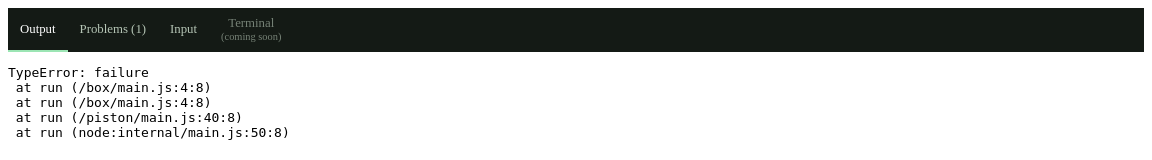
Test: lists only deduplicated learner diagnostics and keeps runtime frames in Output
The width and height of the screenshot is (1152, 160).
Click the tab "Problems (1)". click: (113, 30)
box: [68,8,158,52]
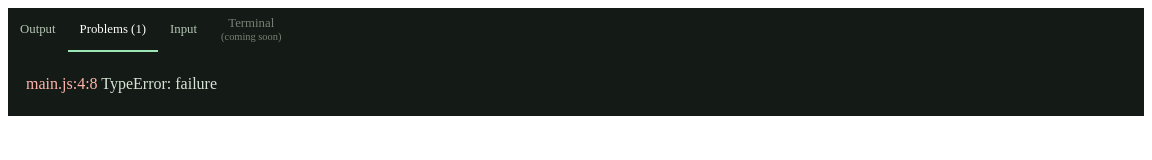
Expected: the number of buttons "main.js:4:8 TypeError: failure" is 1, [18,62,1134,106]
Click the tab "Output". click: (38, 30)
box: [8,8,68,52]
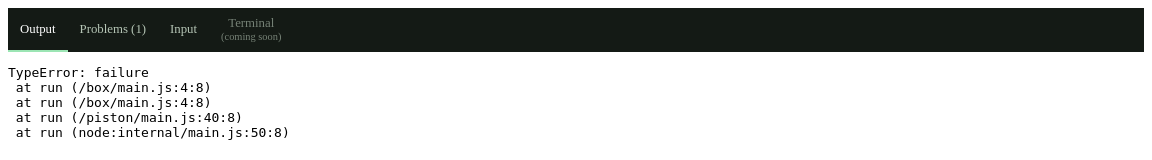
Expected: the text "node:internal" is shown, [8,65,290,140]
